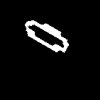chain: (25, 21, 68, 51)
